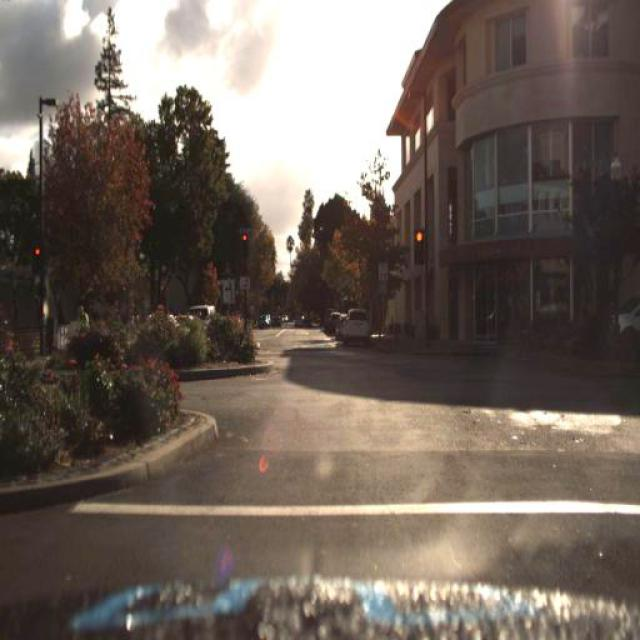semaforo: (414, 227, 424, 263), (32, 243, 43, 274)
